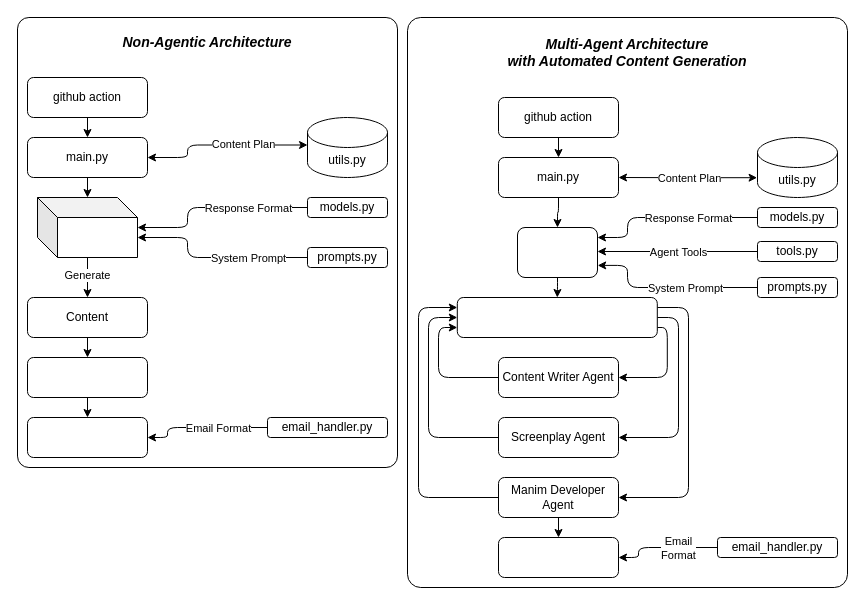
Some shapes in this 865 by 605 pixel diagram are drawn without their labels. The centre of each missing label's shape, as x and y in pixels:
"agents.py" belongs at (557,252).
"Content Creator Agent (Manager)" belongs at (556,317).
"Gemini 2.5 Flash" belongs at (87,227).
"Output Engineering" belongs at (87,377).
"Send Email" belongs at (87,437).
"Send Email and Prepare Artifacts" belongs at (558,557).
